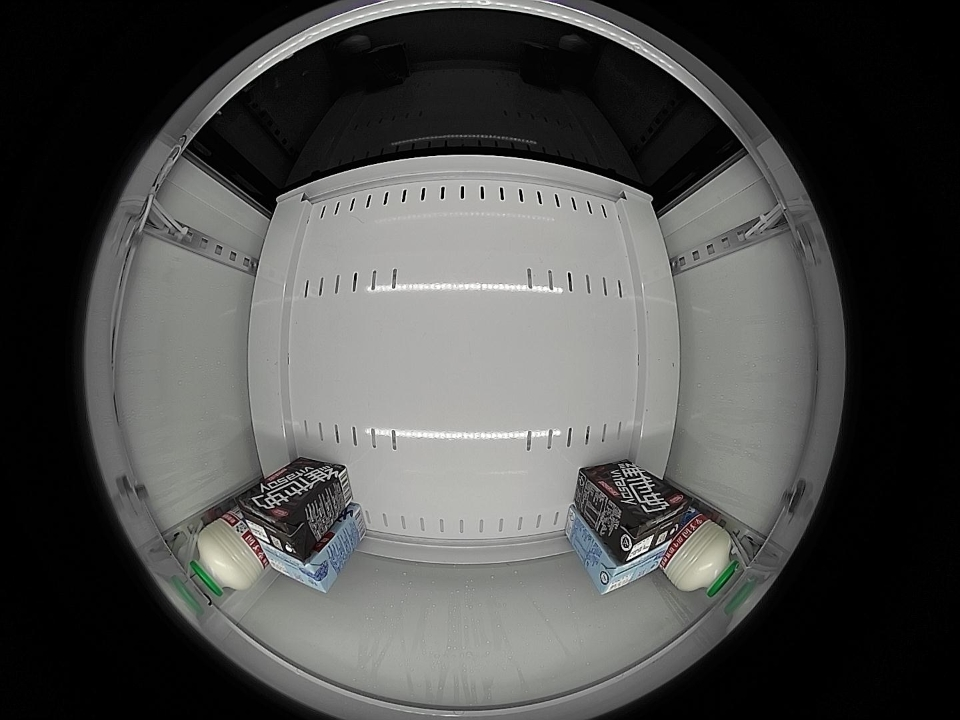liziyuan: (189, 515, 264, 596), (665, 516, 740, 597)
weitanai2: (605, 490, 692, 565), (236, 489, 318, 563)
weitanaiditang: (258, 542, 337, 593), (592, 544, 670, 595)
